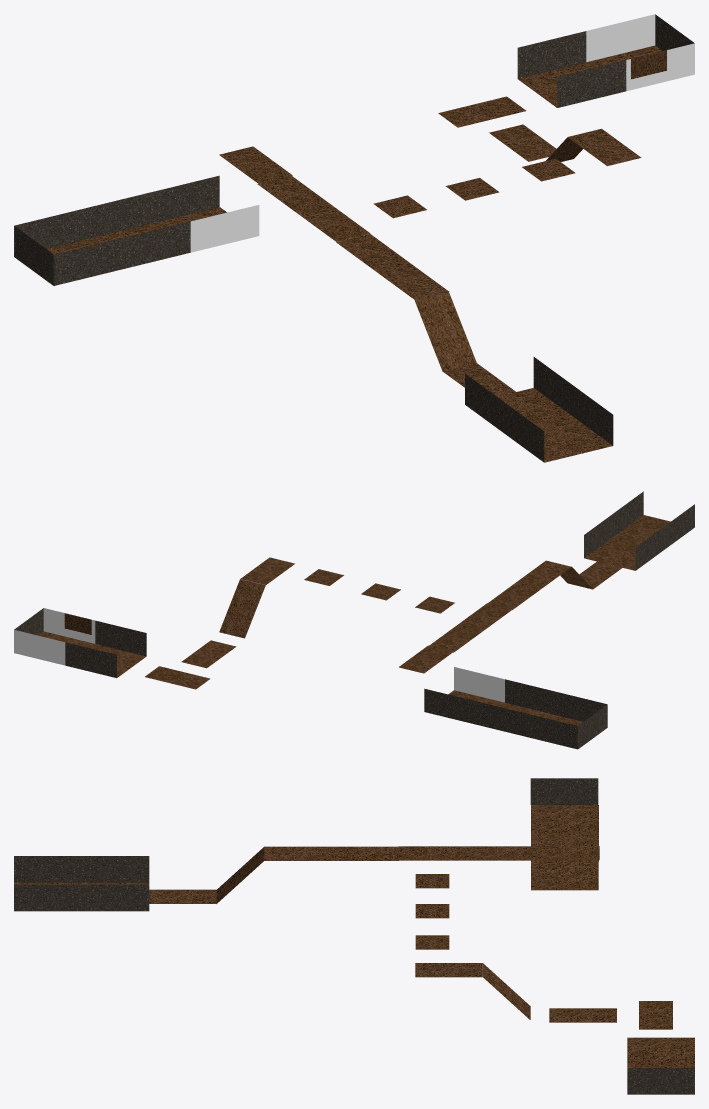
File: test_hall2_mapped2.obj
3 renders of one model, top to bottom at view 1: azimuth 30°, elevation 25°; view 2: azimuth 150°, elevation 25°; view 3: azimuth 270°, elevation 25°, orthographic. The views are drawn at different scales.
Visible parts, largest first — view 1: mesh01; view 2: mesh01; view 3: mesh01.
Part boxes in pixels (box(x1,y1,x2,y2)): mesh01: box(14, 14, 694, 462); mesh01: box(14, 491, 694, 749); mesh01: box(14, 778, 694, 1094).
Bounding box in the file's own units: 12490 × 921 × 12399.
1 material, 1 textured.
